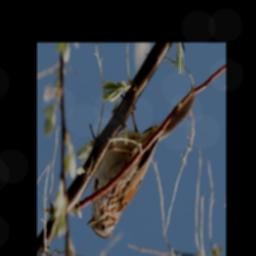Sparrow: (87, 91, 196, 239)
